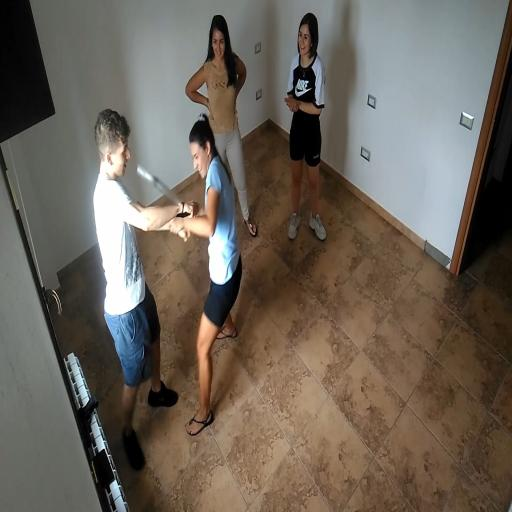violencia: (78, 98, 256, 477)
